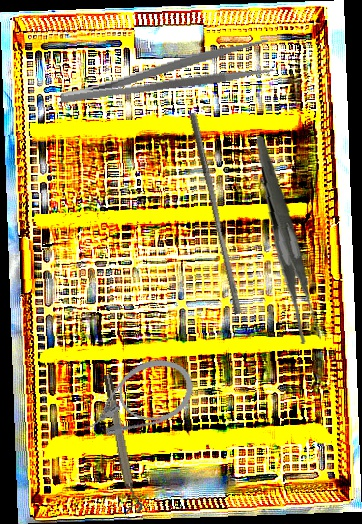Cannula: (70, 349, 203, 449)
Dressing Forceps: (242, 137, 335, 345), (56, 37, 274, 109)
Fixation Ring: (100, 372, 145, 515)
Pusher: (181, 112, 249, 315)
